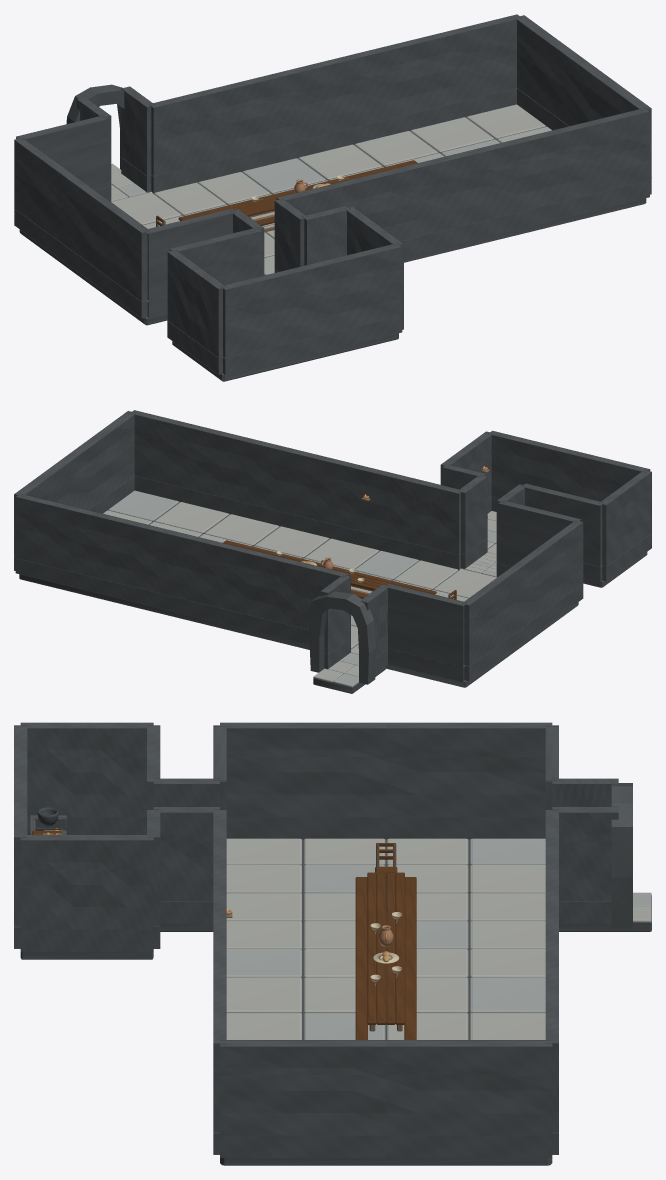
The model's file is retreat_r3_a3.glb.
3 renders of one model, top to bottom at view 1: azimuth 30°, elevation 25°; view 2: azimuth 150°, elevation 25°; view 3: azimuth 270°, elevation 25°, orthographic. The views are drawn at different scales.
Parts seen in each view (by area): view 1: Dining_South_Upper, Dining_North_Upper, Floor_Dining, Kitchen_North_Upper, Expanded_Dining_West_Upper, Dining_East_Upper, Dining_South_Base, Dining_North_Base, Kitchen_West_Upper, Dining_Access_South_Upper, Dining_Access_North_Upper, Expanded_Kitchen_South_West_Upper (+15 smaller); view 2: Dining_North_Upper, Dining_South_Upper, Floor_Dining, Expanded_Dining_West_Upper, Kitchen_North_Upper, Dining_East_Upper, Dining_Access_South_Upper, Dining_North_Base, Dining_South_Base, Kitchen_West_Upper, Rock_Cut_Entrance, Dining_Access_North_Upper (+15 smaller); view 3: Floor_Dining, Dining_East_Upper, Expanded_Dining_West_Upper, Kitchen_East_Upper, Kitchen_West_Upper, Dining_East_Base, Expanded_Dining_West_Base, CANON_Long_Table, Hall_East_Upper, East_Entry_Upper, Dining_North_Upper, Dining_South_Upper (+17 smaller).
Part boxes in pixels (x1,y1,x2,y2): Dining_South_Upper: (149,14,521,176); Dining_North_Upper: (276,108,649,240); Floor_Dining: (19,104,646,325); Kitchen_North_Upper: (220,243,402,358); Expanded_Dining_West_Upper: (14,137,149,301); Dining_East_Upper: (514,15,651,177); Dining_South_Base: (151,88,516,193); Dining_North_Base: (400,180,649,256); Kitchen_West_Upper: (167,249,226,357); Dining_Access_South_Upper: (16,115,109,190); Dining_Access_North_Upper: (144,208,236,302); Expanded_Kitchen_South_West_Upper: (169,227,262,284); Dining_North_Upper: (130,410,462,554); Dining_South_Upper: (15,493,349,629); Floor_Dining: (19,490,578,687); Expanded_Dining_West_Upper: (462,520,583,666); Kitchen_North_Upper: (488,430,650,501); Dining_East_Upper: (14,411,136,555); Dining_Access_South_Upper: (384,583,467,667); Dining_North_Base: (134,476,460,569); Dining_South_Base: (15,558,309,644); Kitchen_West_Upper: (599,470,651,566); Rock_Cut_Entrance: (309,591,376,684); Dining_Access_North_Upper: (498,500,581,567); Floor_Dining: (220,838,552,1165); Dining_East_Upper: (220,1040,552,1135); Expanded_Dining_West_Upper: (220,722,552,817); Kitchen_East_Upper: (20,835,153,929); Kitchen_West_Upper: (20,722,153,817); Dining_East_Base: (220,1135,552,1157); Expanded_Dining_West_Base: (226,817,545,839); CANON_Long_Table: (367,872,404,1031); Hall_East_Upper: (153,806,219,901); East_Entry_Upper: (552,806,618,901); Dining_North_Upper: (213,809,226,1132); Dining_South_Upper: (545,809,558,1132).
Bounding box in the file's own units: 17.3 × 3.17 × 14.4.
12 materials, 2 textured.
